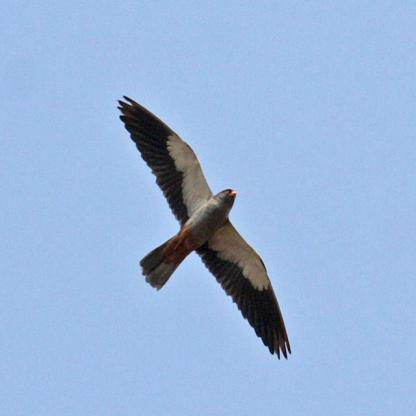Burung: (110, 96, 294, 362)
